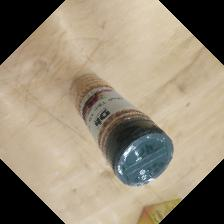TayNinh_green: (67, 70, 176, 189)
